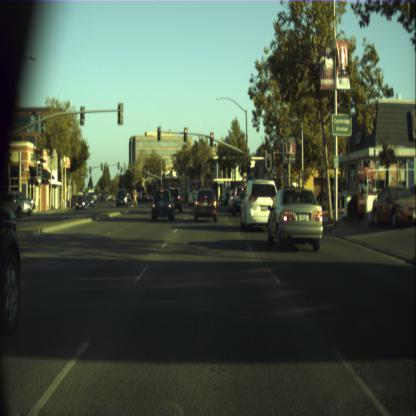Red: (157, 127, 161, 140), (266, 156, 270, 168), (209, 133, 212, 145), (247, 162, 250, 173), (184, 127, 186, 142), (160, 182, 162, 184), (171, 180, 173, 182)
